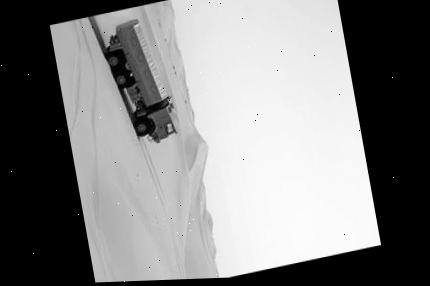truck: (98, 11, 182, 152)
